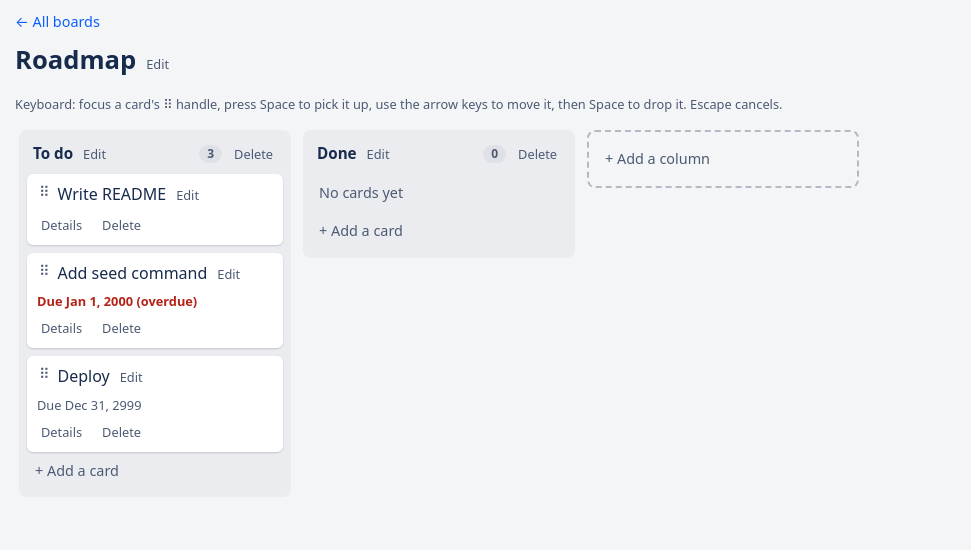
Test case: BoardPage columns › renames a column
The image size is (971, 550).
Click the button with aria-label "Edit name of column To do" at (95, 155), box [79,143,110,166]
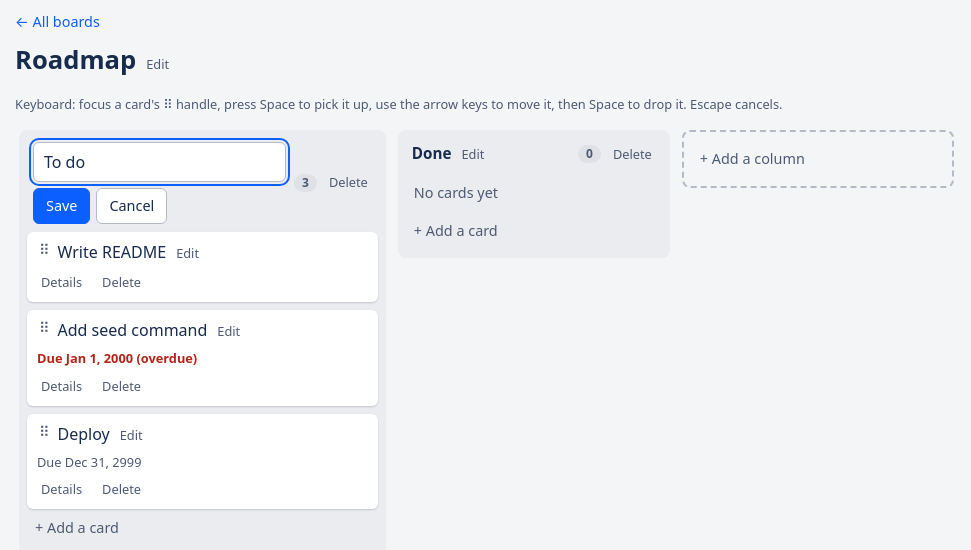
Replace the text in the field named "Edit name of column To do" with "Doing" at (160, 162), box [33,142,286,182]
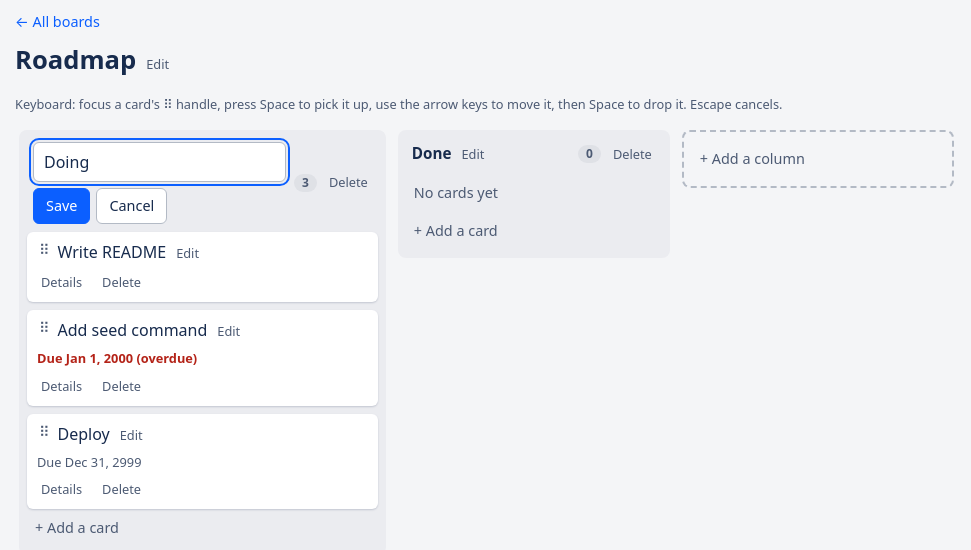
Click the button "Save" at (62, 206), box [33,188,90,224]
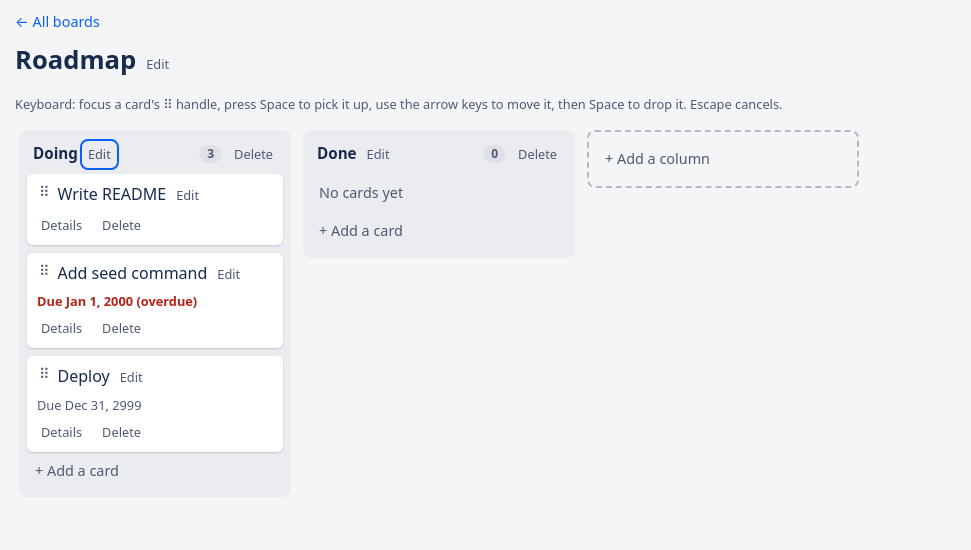
Expected: the heading "Doing" is shown, [33,142,78,165]
